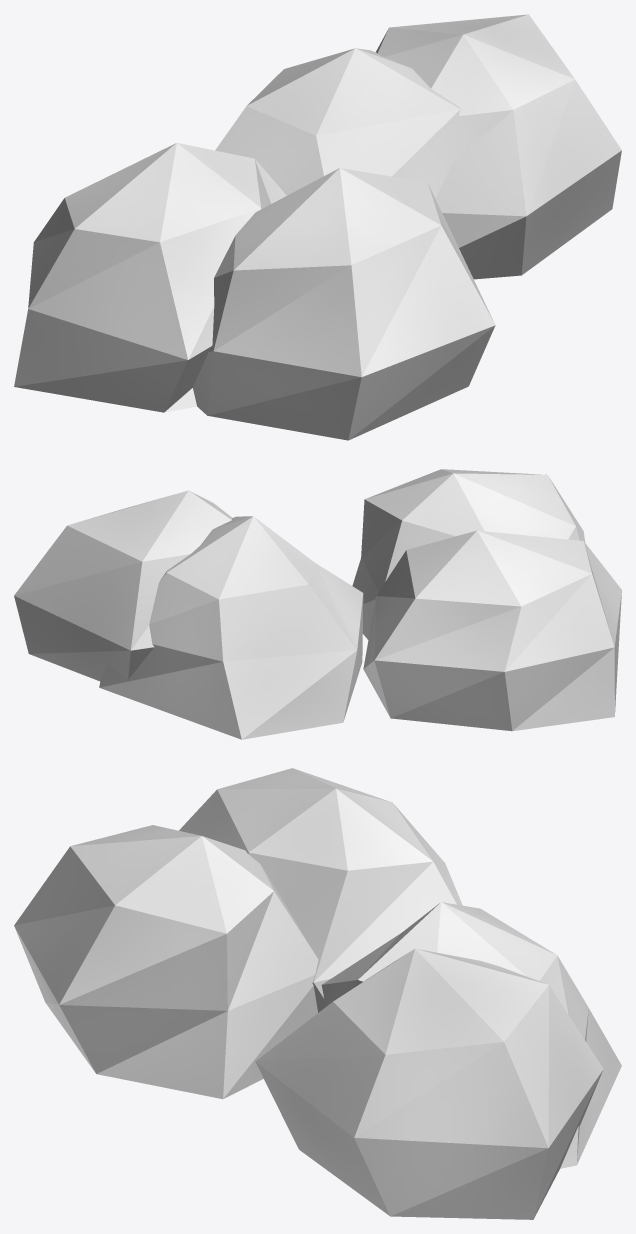
Rendered from item_jade.obj.
The picture shows the model from 3 angles, top to bottom: view 1: azimuth 30°, elevation 25°; view 2: azimuth 150°, elevation 25°; view 3: azimuth 270°, elevation 25°; orthographic projection. The views are drawn at different scales.
Visible parts, largest first — view 1: item_jade; view 2: item_jade; view 3: item_jade.
Part boxes in pixels (x1,y1,x2,y2): item_jade: (14,14,621,440); item_jade: (14,469,621,739); item_jade: (14,768,621,1219).
Size of the model in its own units: 0.5121 by 0.15 by 0.4121.
